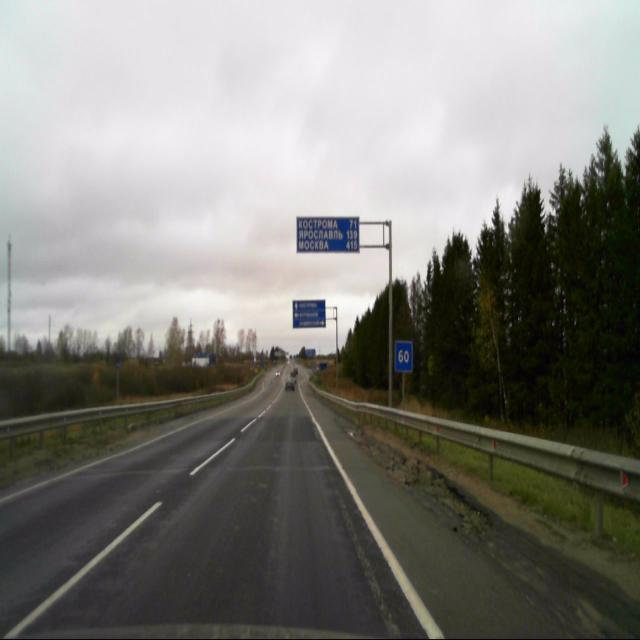road sign: (394, 340, 413, 372)
